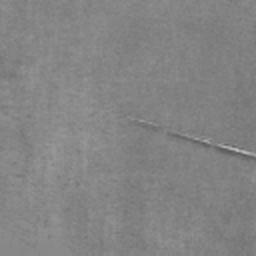Finishing roll printing: (127, 116, 255, 160)
